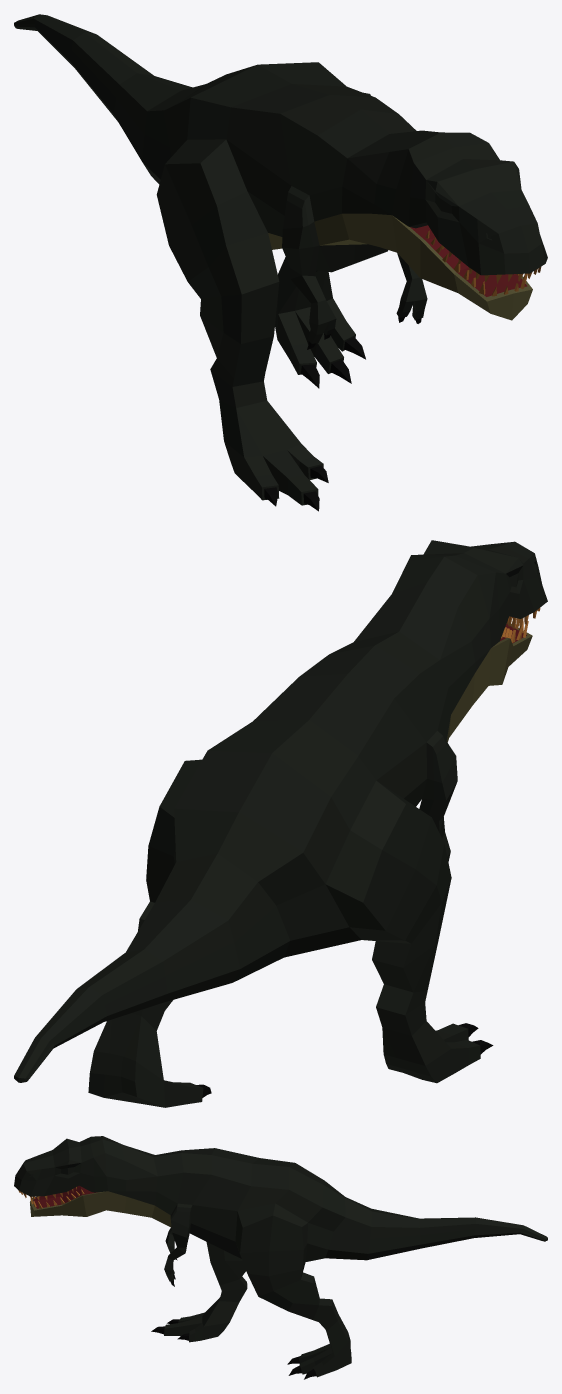
File: Trex_000019.obj
3 views of the same model, one above another, from view 1: azimuth 30°, elevation 25°; view 2: azimuth 150°, elevation 25°; view 3: azimuth 270°, elevation 25° (orthographic). The views are drawn at different scales.
Visible parts, largest first — view 1: Trex_Cylinder; view 2: Trex_Cylinder; view 3: Trex_Cylinder.
Boxes of the visible parts, x1,y1,x2,y2 form: Trex_Cylinder: [14, 14, 547, 511]; Trex_Cylinder: [14, 540, 547, 1107]; Trex_Cylinder: [14, 1136, 547, 1379].
Bounding box in the file's own units: 8.18 × 13.82 × 31.13.
